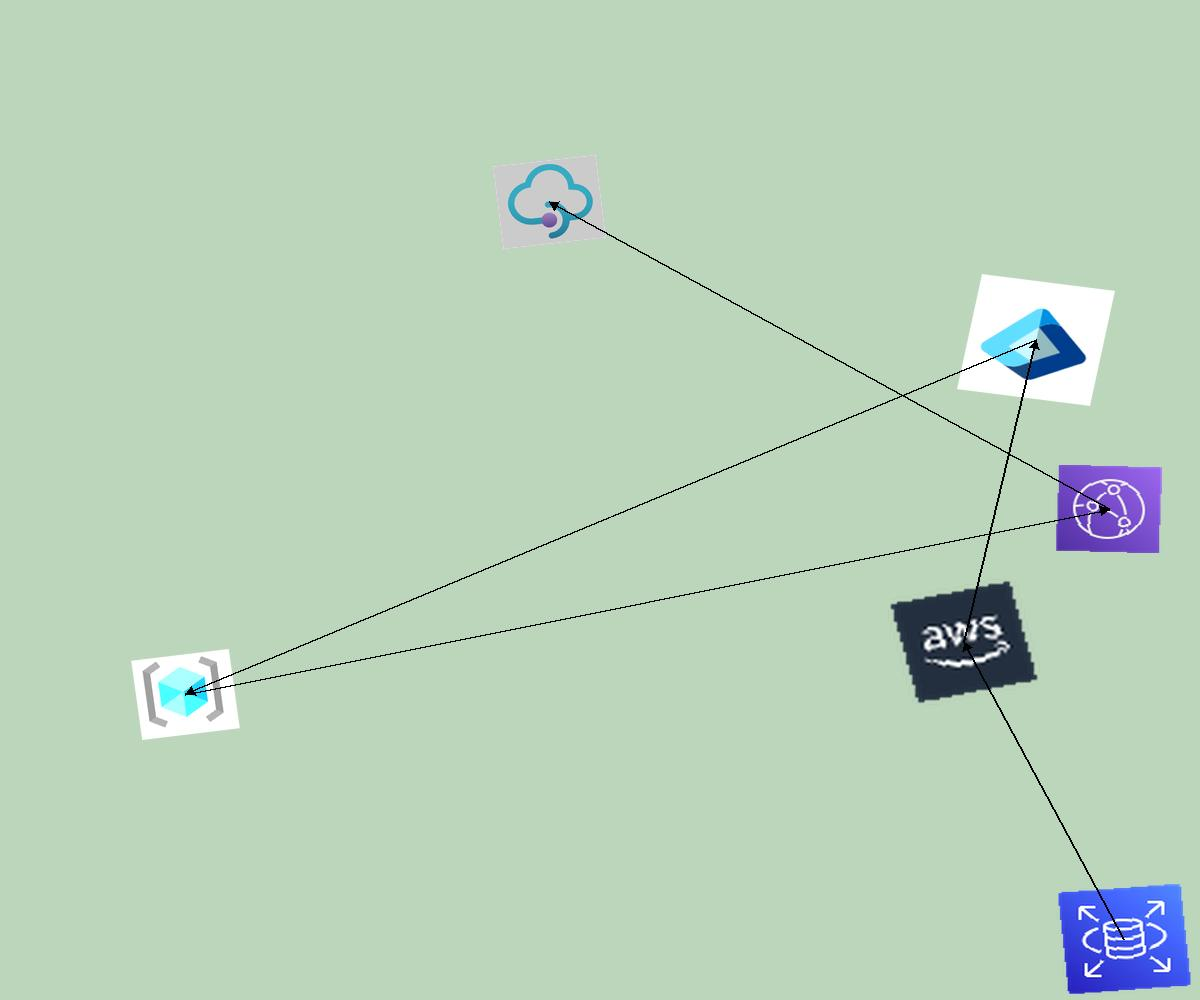AWS-Cloud-logo: (888, 579, 1040, 705)
AWS-CloudFront: (1055, 464, 1163, 554)
AWS-RDS: (1057, 883, 1192, 995)
Azure_api_gateway: (492, 154, 607, 250)
Azure_microsoft_entra: (957, 274, 1115, 406)
Azure_resource_group: (131, 649, 240, 740)
